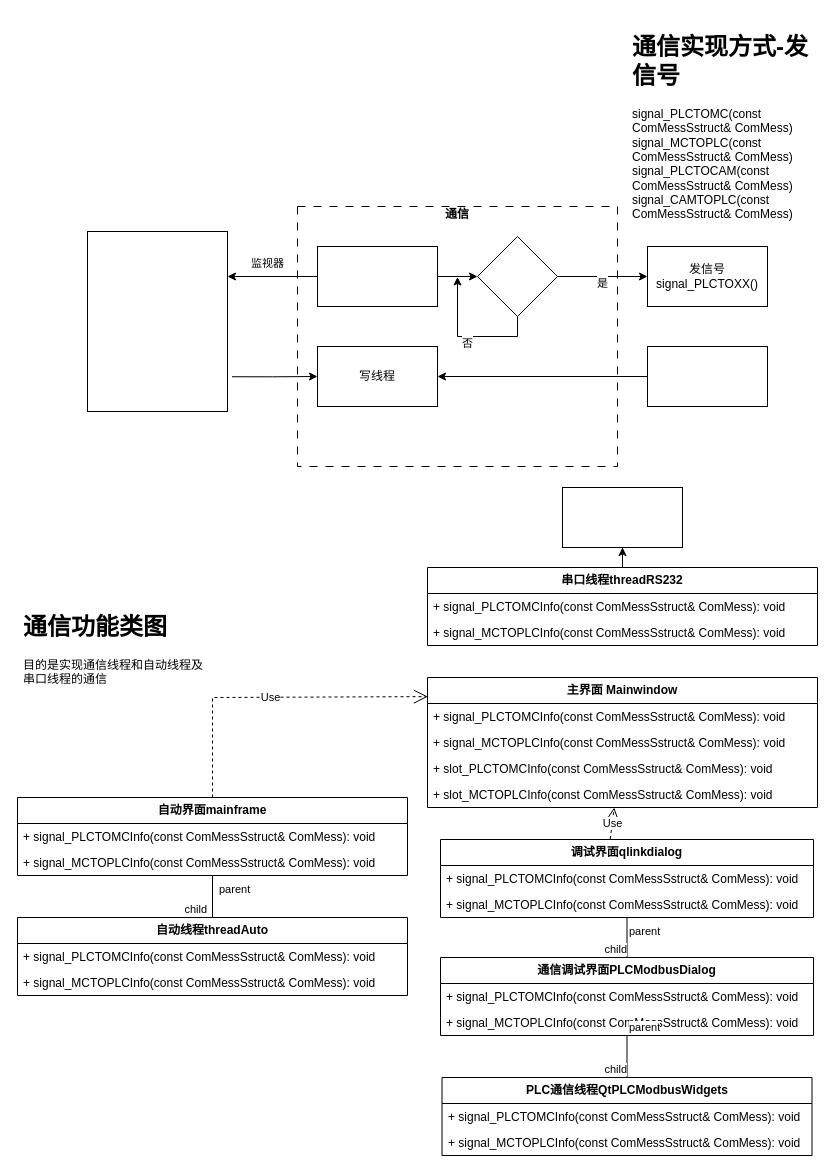
This 835x1175 diagram has some shape labels left out. The centre of each missing label's shape, as x and y in pixels:
"KepServer" belongs at (157,321).
"发信号signal_XXTOPLC()" belongs at (707,376).
"数据变化？" belongs at (517,276).
"相机" belongs at (622,517).
"读线程" belongs at (377,276).
